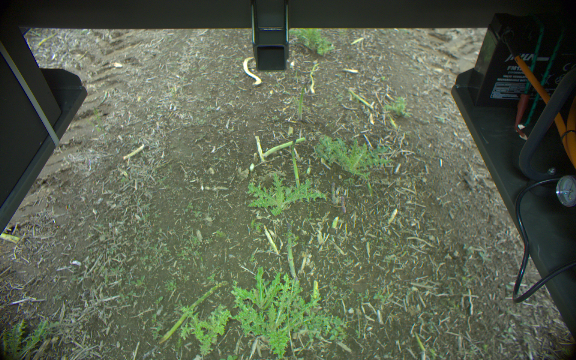aspa: (159, 280, 228, 343), (283, 221, 298, 283), (262, 137, 307, 157), (295, 73, 311, 121), (348, 89, 375, 112), (291, 135, 299, 189), (252, 135, 265, 161)
